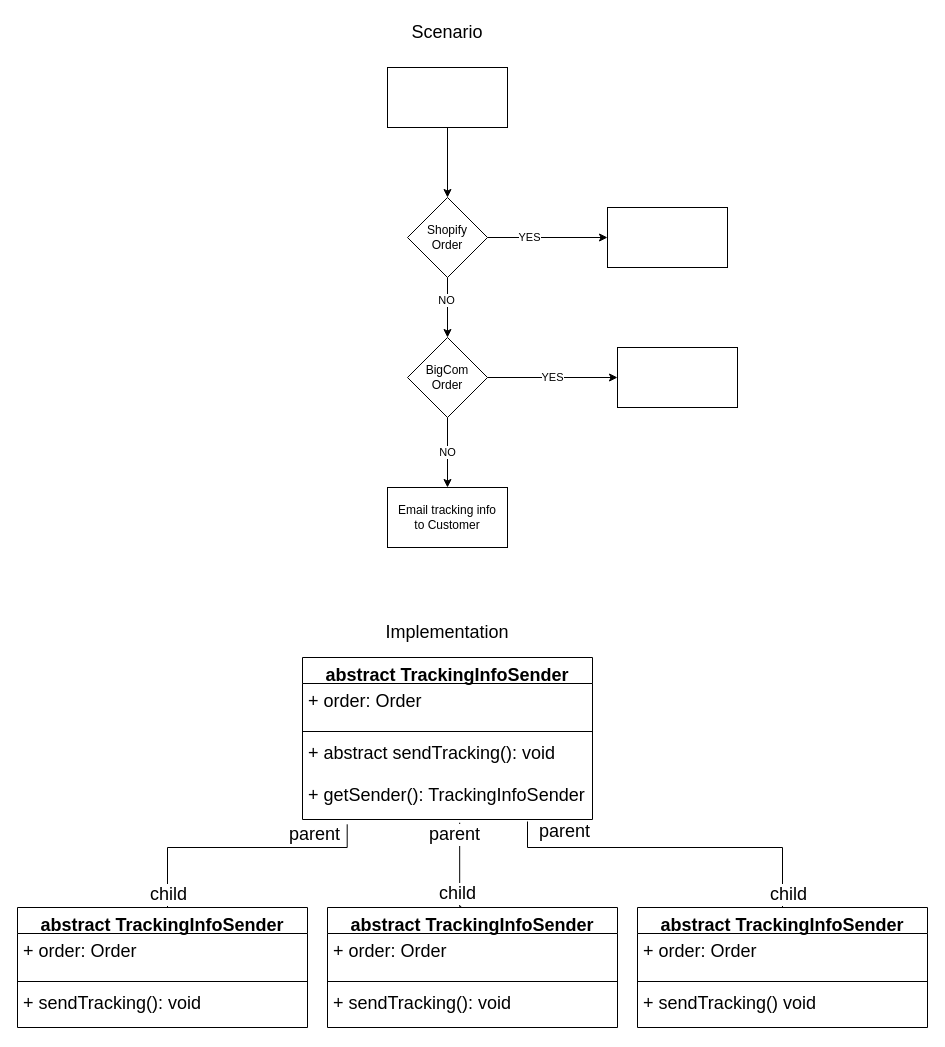
Some shapes in this 945 by 1047 pixel diagram are drawn without their labels. Here are the shapes that lost their labels. From the top down, the box of each, then its label:
(386, 66, 508, 128): Order shipped
(606, 206, 728, 268): Send tracking info to Shopify
(616, 346, 738, 408): Send tracking info to BigCommerce
